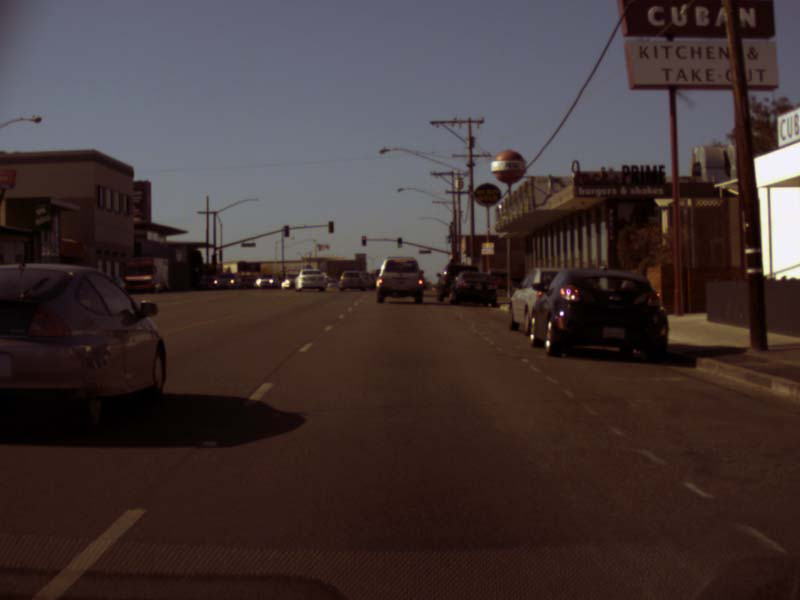Green: (397, 237, 401, 247)
Red: (361, 235, 365, 245)
